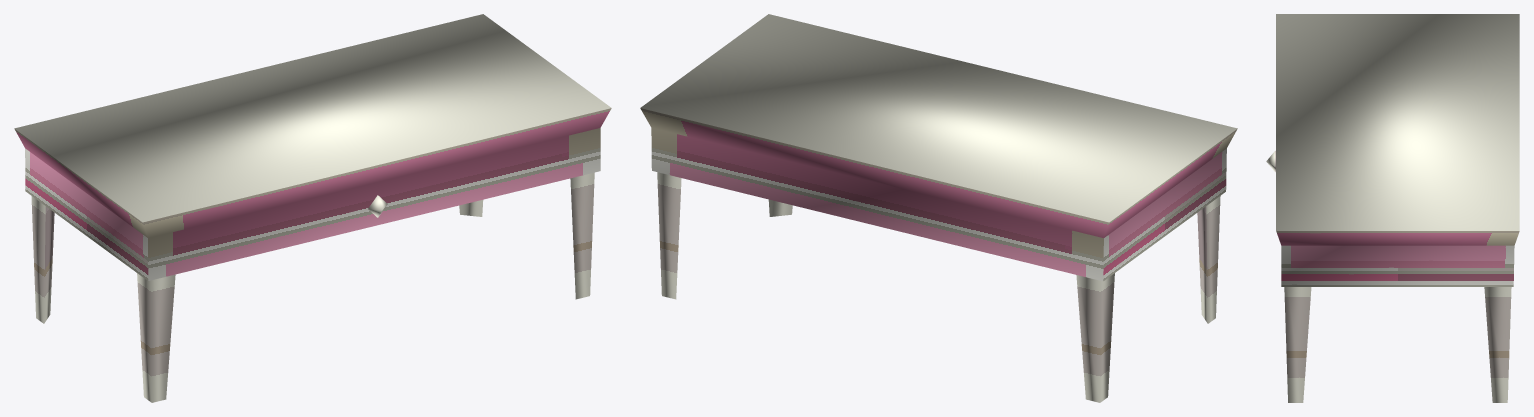
3 renders of one model, left to right at view 1: azimuth 30°, elevation 25°; view 2: azimuth 150°, elevation 25°; view 3: azimuth 270°, elevation 25°, orthographic. The views are drawn at different scales.
Visible parts, largest first — view 1: 3077IMRL05_05; view 2: 3077IMRL05_05; view 3: 3077IMRL05_05.
Part boxes in pixels (<box>): 3077IMRL05_05: <box>14,14,611,402</box>; 3077IMRL05_05: <box>640,14,1237,402</box>; 3077IMRL05_05: <box>1266,14,1519,402</box>.
Size of the model in its own units: 1.95 by 0.7502 by 0.9626.
2 materials, 2 textured.
